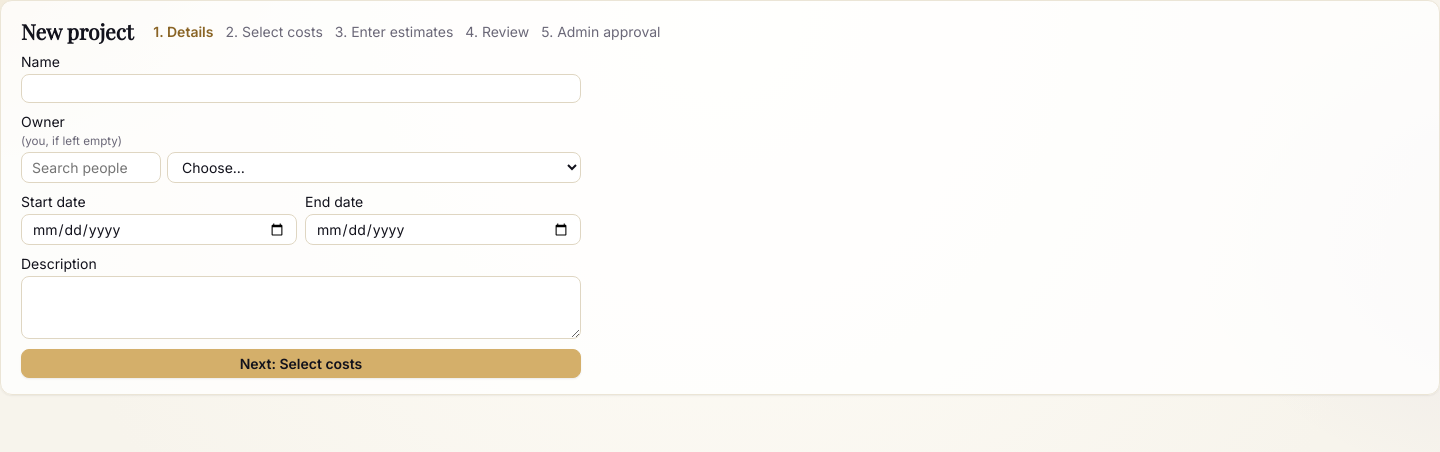
Test case: Create project (step 1: details) › shows the server validation message
Type "Y" into the field labelled "Name" at (301, 88), box 21,74 -> 581,103
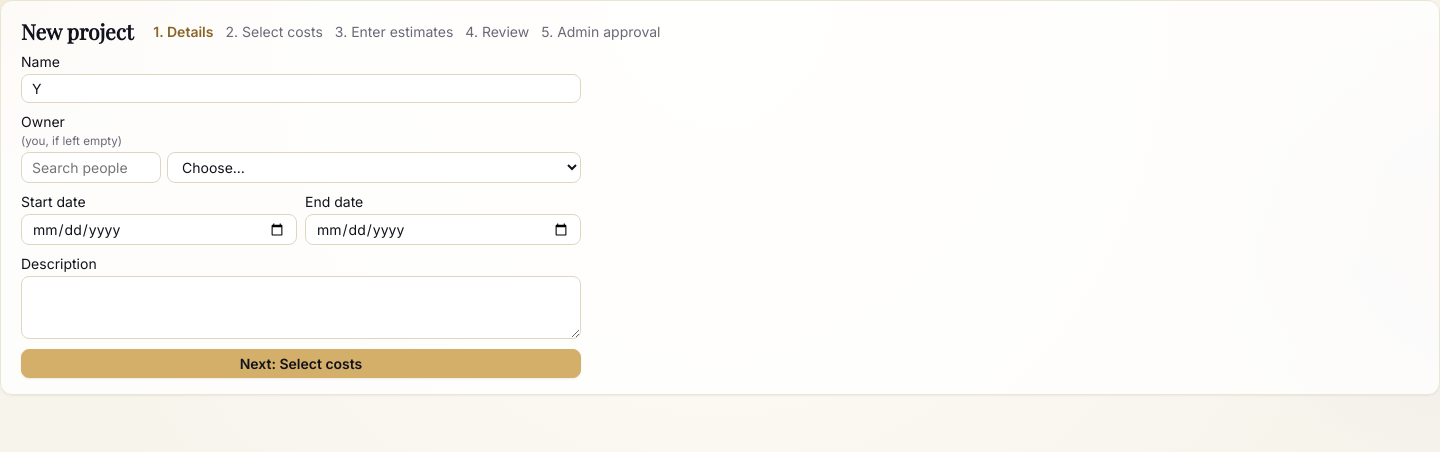
Click the button "Next: Select costs" at (301, 364), box 21,349 -> 581,378
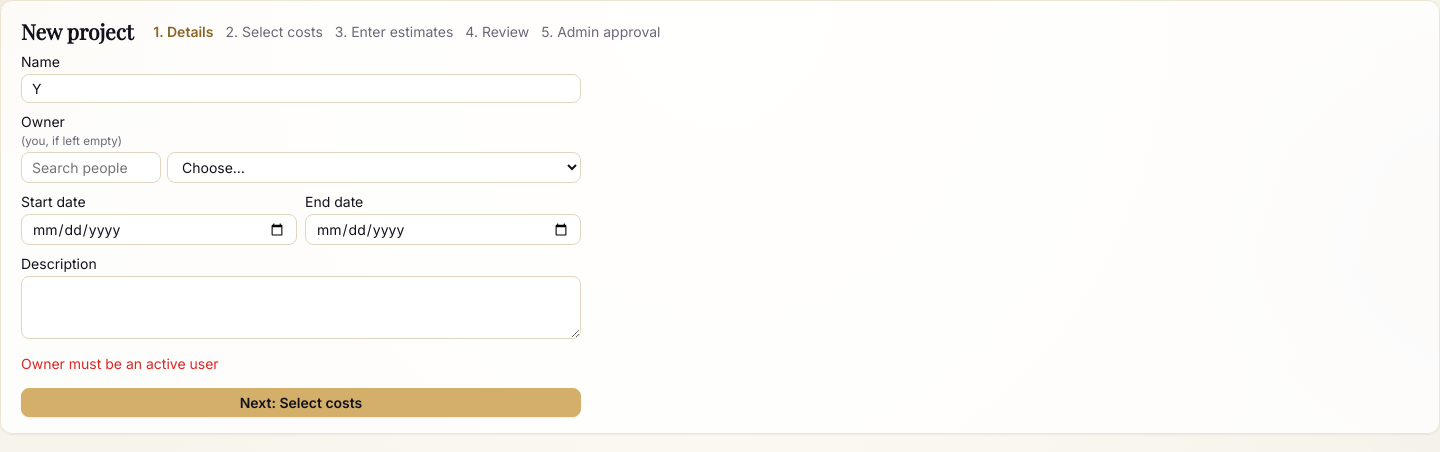
Check: the message reads "Owner must be an active user", box 21,355 -> 219,372
